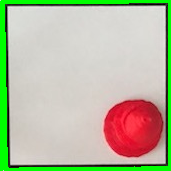Red Bishop: (100, 97, 166, 162)
